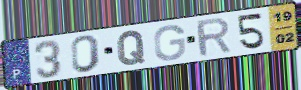0: (69, 34, 102, 74)
3: (33, 39, 62, 80)
5: (236, 12, 266, 50)
G: (152, 23, 188, 62)
Q: (116, 29, 147, 67)
R: (194, 16, 234, 59)
